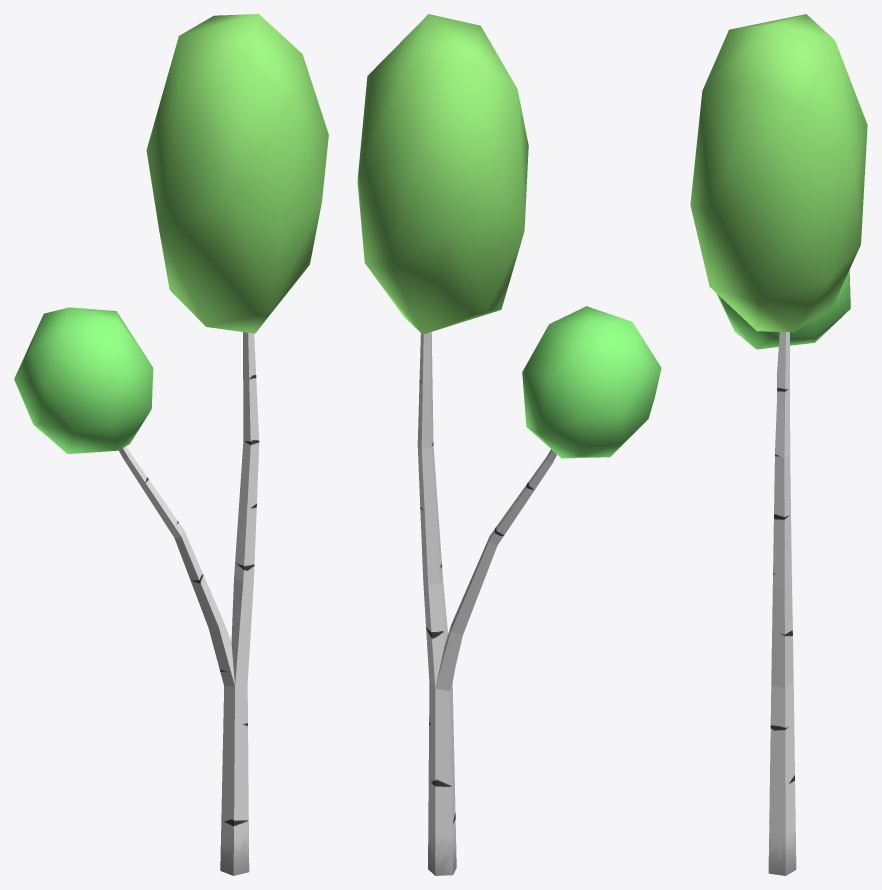
The model's file is birchtree1.fbx.
3 renders of one model, left to right at view 1: azimuth 30°, elevation 25°; view 2: azimuth 150°, elevation 25°; view 3: azimuth 270°, elevation 25°, orthographic.
Visible parts, largest first — view 1: Birch_Tree_m_04; view 2: Birch_Tree_m_04; view 3: Birch_Tree_m_04.
Part boxes in pixels (x1,y1,x2,y2): Birch_Tree_m_04: [14, 14, 328, 875]; Birch_Tree_m_04: [357, 14, 661, 875]; Birch_Tree_m_04: [690, 14, 867, 875].
Bounding box in the file's own units: 144 × 265 × 767.
Materials: 1 (1 with a texture image).
